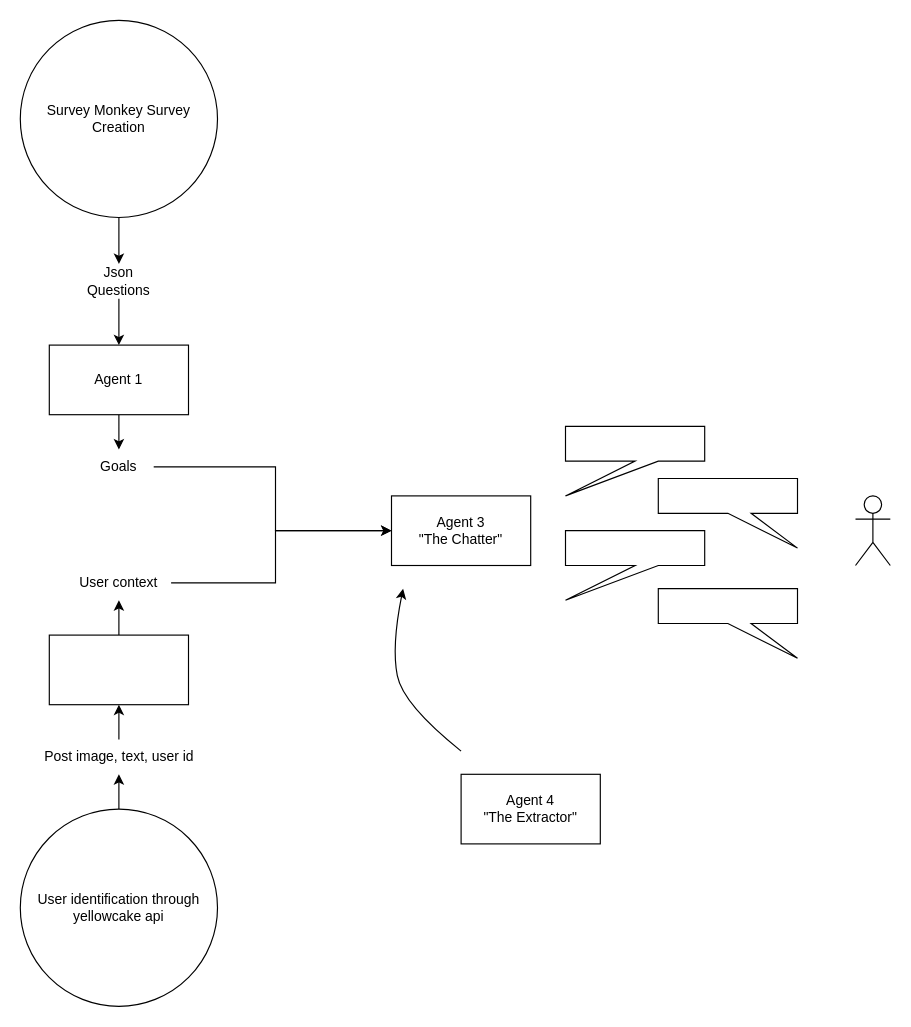
Some shapes in this 911 by 1027 pixel diagram are drawn without their labels. The box of each missing label's shape, as (x1, y1, x2, y2) in pixels:
Agent 2: (48, 634, 188, 705)
User: (854, 495, 890, 566)
